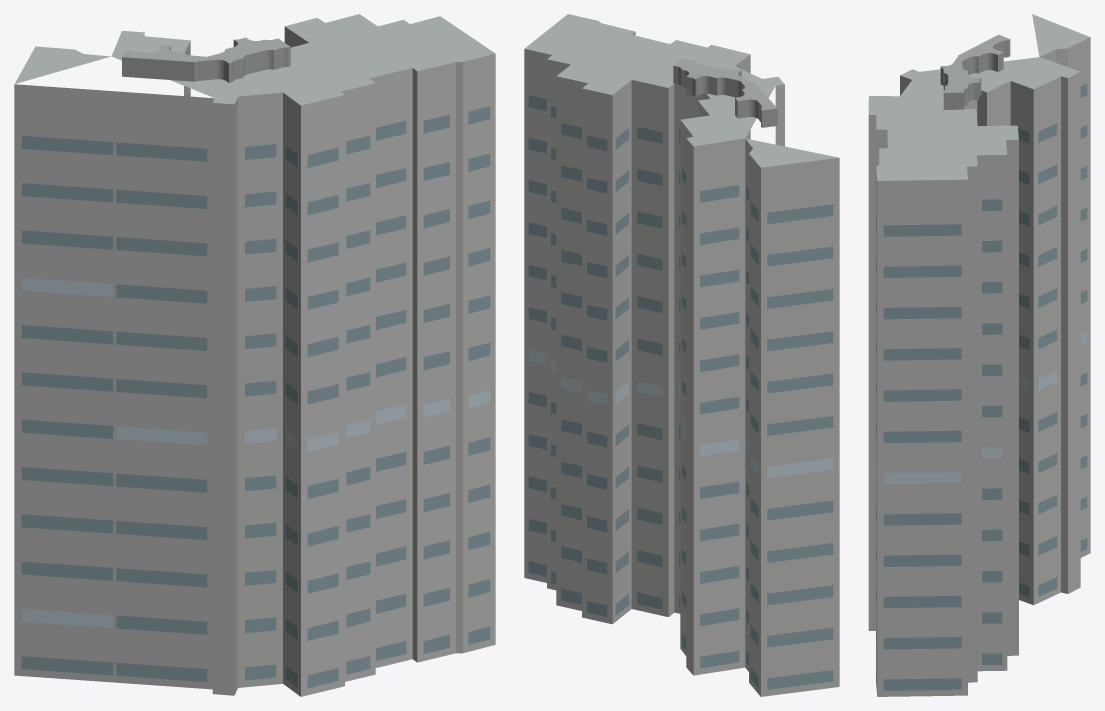
Rendered from fallback-godeok-arteon-completion-302.glb.
3 views of the same model, side by side, from view 1: azimuth 30°, elevation 25°; view 2: azimuth 150°, elevation 25°; view 3: azimuth 270°, elevation 25° (orthographic). The views are drawn at different scales.
Parts seen in each view (by area): view 1: fallback-godeok-arteon-completion-302; view 2: fallback-godeok-arteon-completion-302; view 3: fallback-godeok-arteon-completion-302.
Part boxes in pixels (x1,y1,x2,y2): fallback-godeok-arteon-completion-302: (14, 14, 495, 696); fallback-godeok-arteon-completion-302: (524, 14, 839, 696); fallback-godeok-arteon-completion-302: (868, 14, 1090, 696).
Size of the model in its own units: 50.42 by 75 by 28.33.
